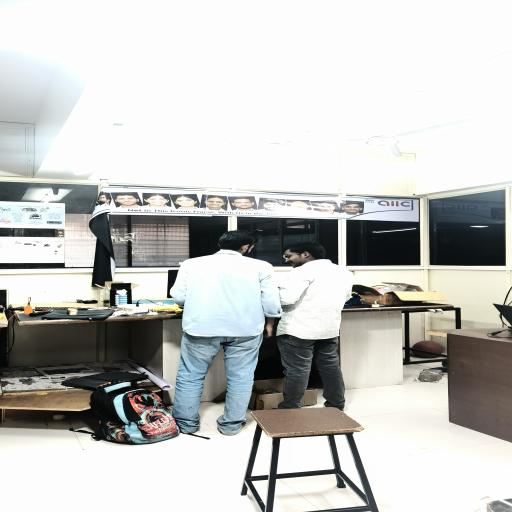survivor: (169, 230, 283, 436), (273, 242, 355, 412)
